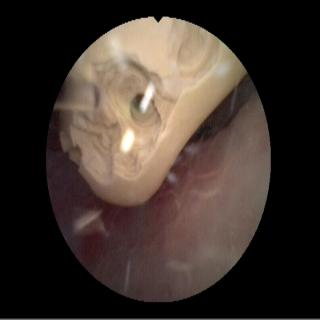stone: (59, 22, 245, 206)
tissue: (49, 84, 266, 296)
